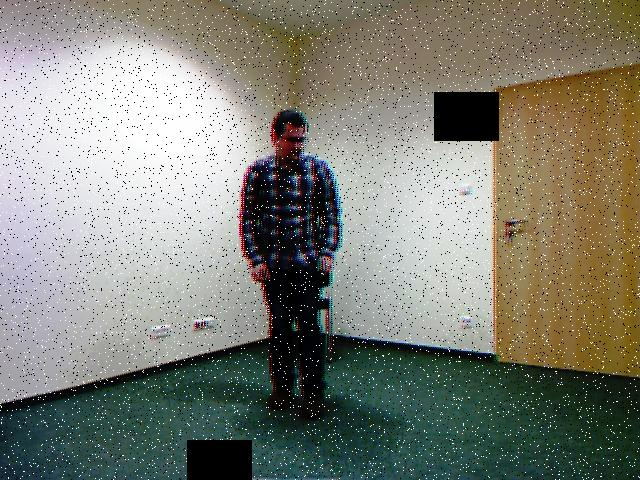standing: (232, 99, 348, 439)
